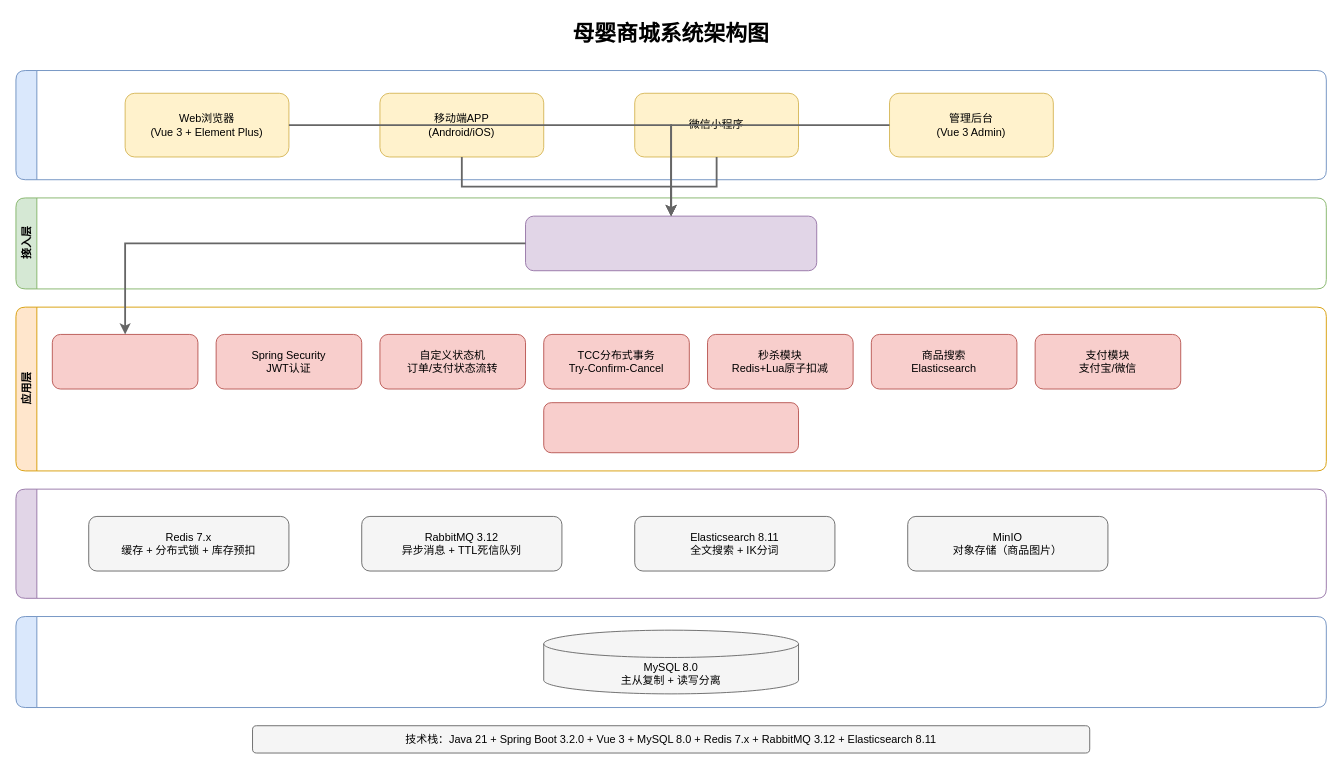
This 1342x769 diagram has some shape labels left out. The box of each missing label's shape, as (x1, y1, x2, y2) in pixels:
MyBatis-Plus 3.5.5 数据访问层: (543, 402, 799, 453)
Nginx 负载均衡 + 反向代理: (525, 215, 817, 271)
Spring Boot 3.2.0 RESTful API: (51, 334, 198, 389)
中间件层: (15, 488, 1326, 598)
数据层: (15, 616, 1326, 708)
用户层: (15, 70, 1326, 180)
